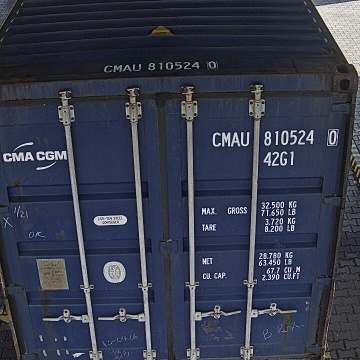serial_id: (213, 129, 338, 146)
